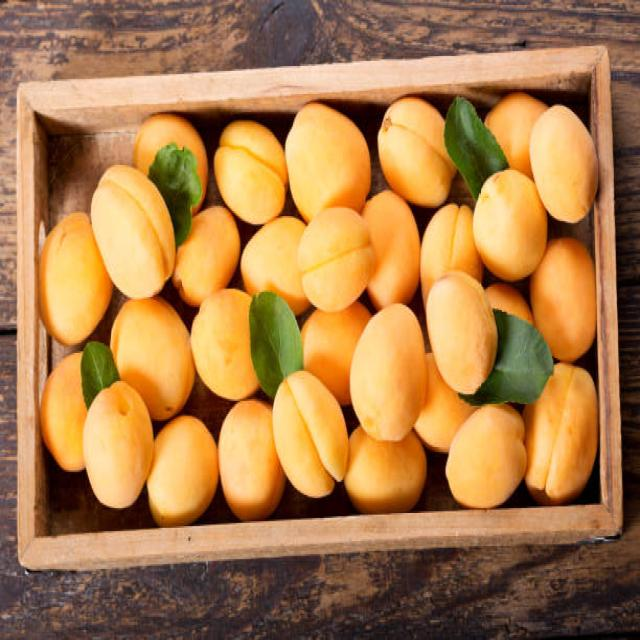kayisi: (90, 393, 470, 512), (222, 132, 432, 269), (34, 202, 153, 338)
kayisi-yapragi: (435, 87, 507, 183), (242, 289, 306, 383), (500, 305, 559, 402), (155, 144, 197, 220), (82, 346, 116, 391)
